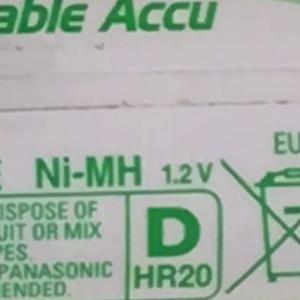keyword: (126, 255, 216, 297)
